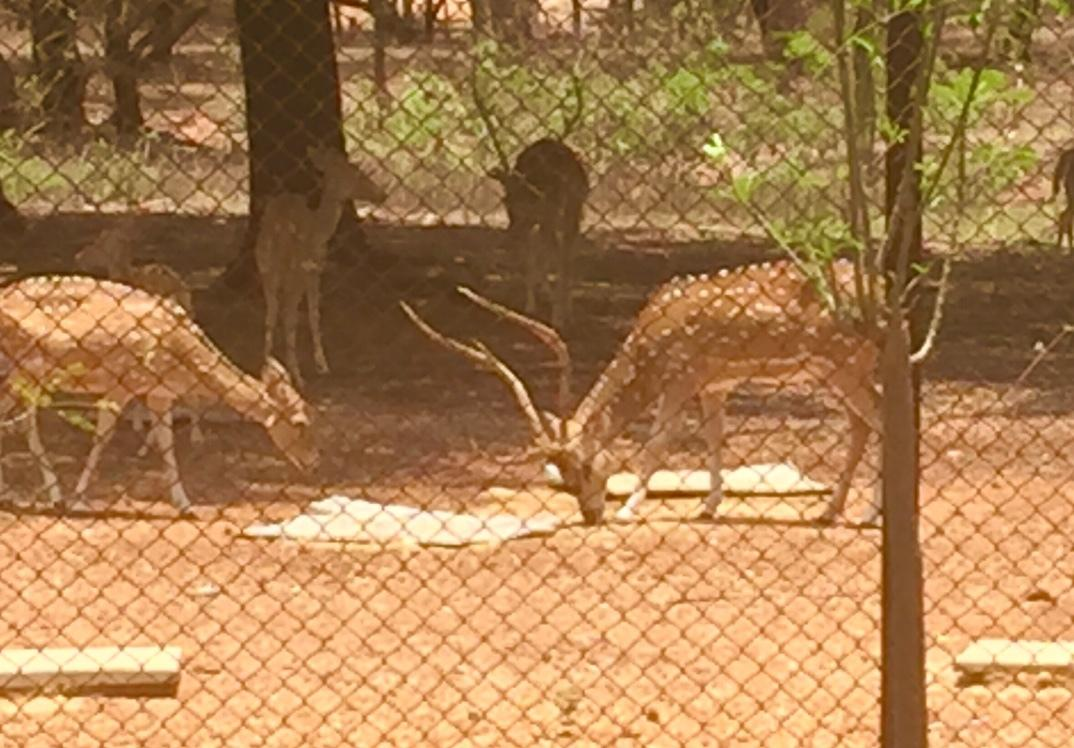Deer: (400, 260, 877, 522), (255, 147, 385, 385), (490, 138, 588, 326)
